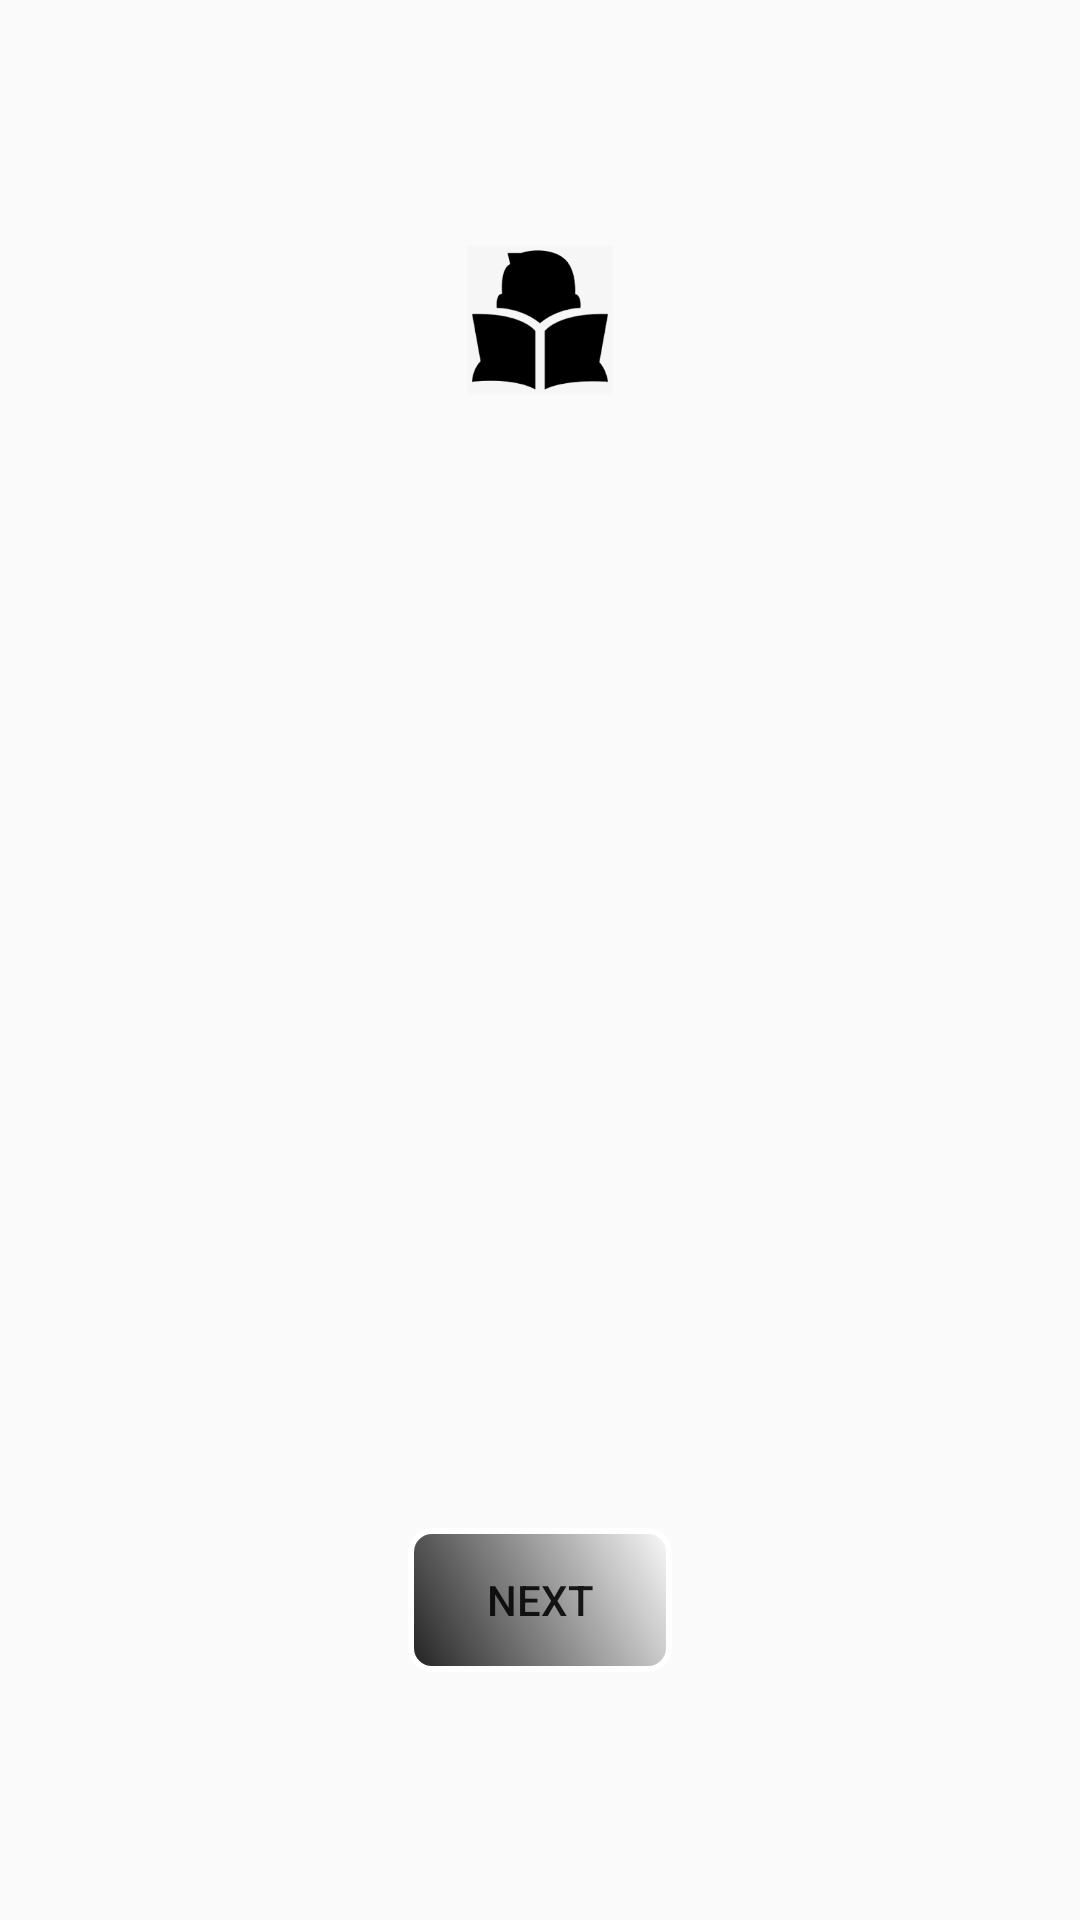

Named icons in this screenshot (1080x1920) and their centers, [x,y]:
study: [540,320]
